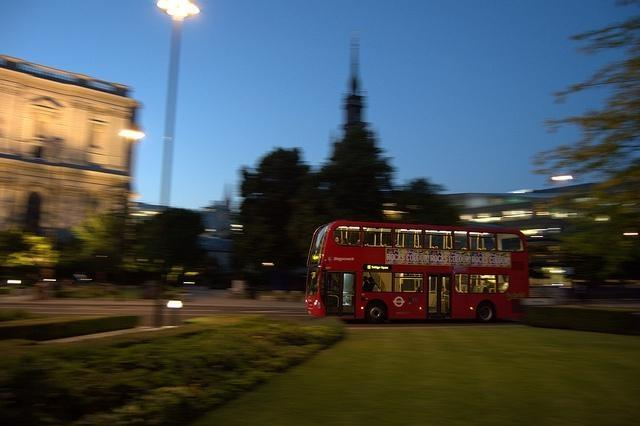bus: (306, 219, 529, 325)
